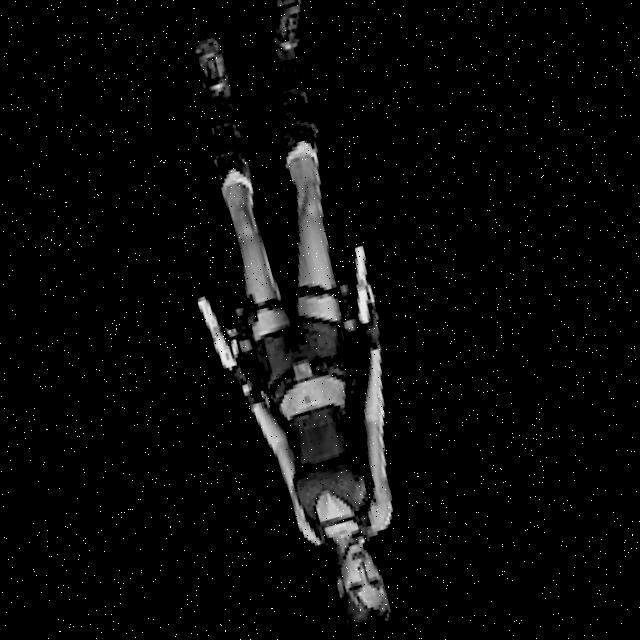firearm: (194, 288, 243, 381), (342, 245, 385, 325)
